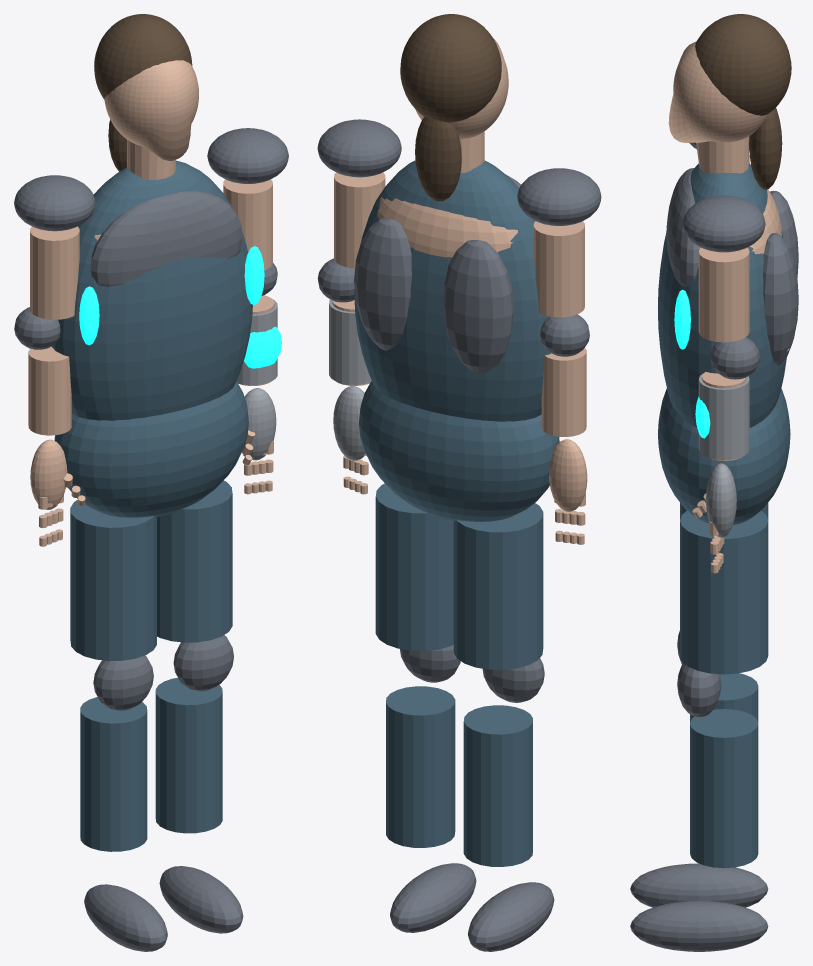
Rendered from dash_b.fbx.
The picture shows the model from 3 angles, left to right: view 1: azimuth 30°, elevation 25°; view 2: azimuth 150°, elevation 25°; view 3: azimuth 270°, elevation 25°; orthographic projection. The views are drawn at different scales.
Visible parts, largest first — view 1: Operative_Body; view 2: Operative_Body; view 3: Operative_Body.
Boxes of the visible parts, left/top/right/bottom form: Operative_Body: left=14, top=14, right=288, bottom=951; Operative_Body: left=317, top=14, right=601, bottom=951; Operative_Body: left=630, top=14, right=798, bottom=951.
Size of the model in its own units: 56 by 182 by 30.5.
